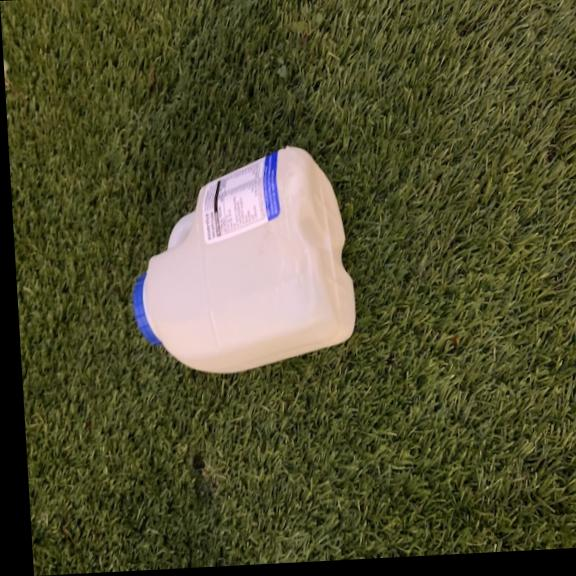Plastik: (123, 139, 358, 379)
